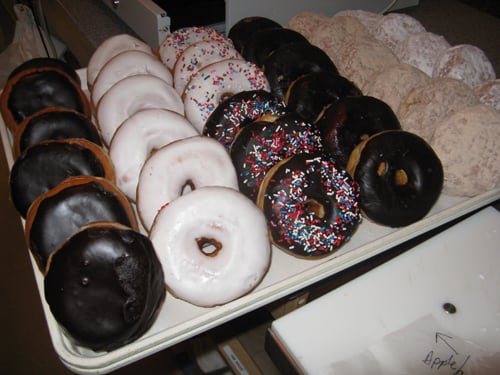salad: (42, 222, 166, 351), (149, 187, 272, 307), (25, 175, 141, 275), (259, 153, 362, 259), (136, 136, 239, 234), (227, 16, 338, 103), (347, 130, 445, 228), (10, 138, 116, 221), (230, 114, 326, 205), (108, 108, 200, 202), (331, 9, 452, 78), (180, 57, 276, 135), (315, 95, 401, 175), (429, 105, 500, 199), (397, 77, 482, 142), (159, 26, 239, 88), (206, 90, 286, 150), (284, 71, 363, 125), (159, 26, 238, 70), (432, 43, 496, 88), (472, 79, 500, 113)
